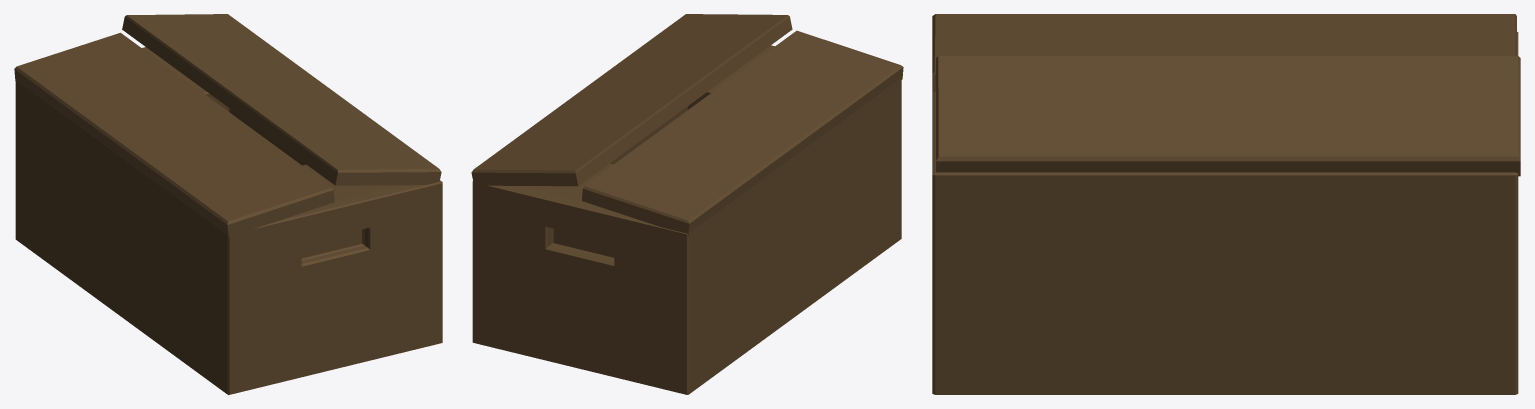
File: Package.fbx
3 views of the same model, side by side, from view 1: azimuth 30°, elevation 25°; view 2: azimuth 150°, elevation 25°; view 3: azimuth 270°, elevation 25° (orthographic). The views are drawn at different scales.
Visible parts, largest first — view 1: Cube.007, Cube.009, Cube.008; view 2: Cube.007, Cube.009, Cube.008; view 3: Cube.007, Cube.008, Cube.009.
Boxes of the visible parts, x1,y1,x2,y2 form: Cube.007: (15, 47, 442, 394); Cube.009: (14, 32, 334, 237); Cube.008: (122, 14, 441, 185); Cube.007: (472, 45, 901, 394); Cube.009: (582, 30, 903, 235); Cube.008: (471, 14, 792, 186); Cube.007: (932, 32, 1518, 394); Cube.008: (936, 56, 1520, 176); Cube.009: (932, 14, 1516, 92).
Size of the model in its own units: 345 by 201 by 175.
